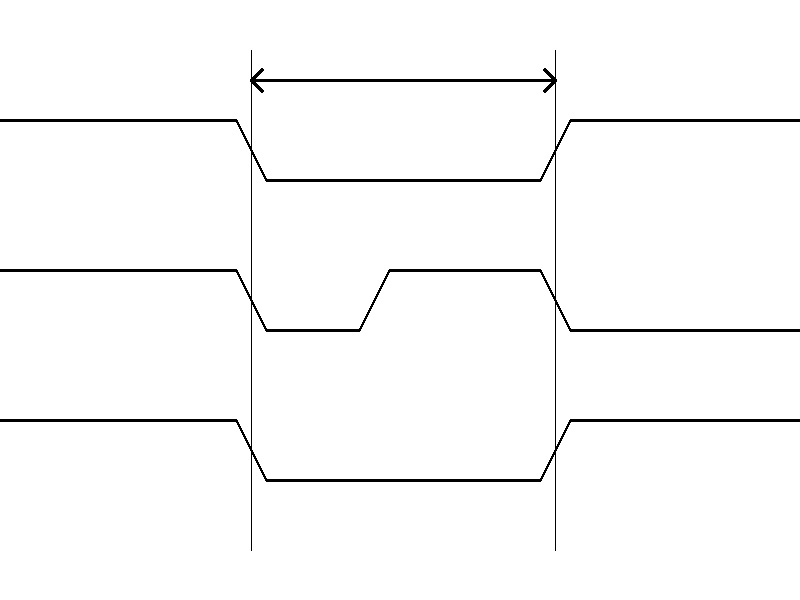double_arrow: (251, 65, 555, 95)
